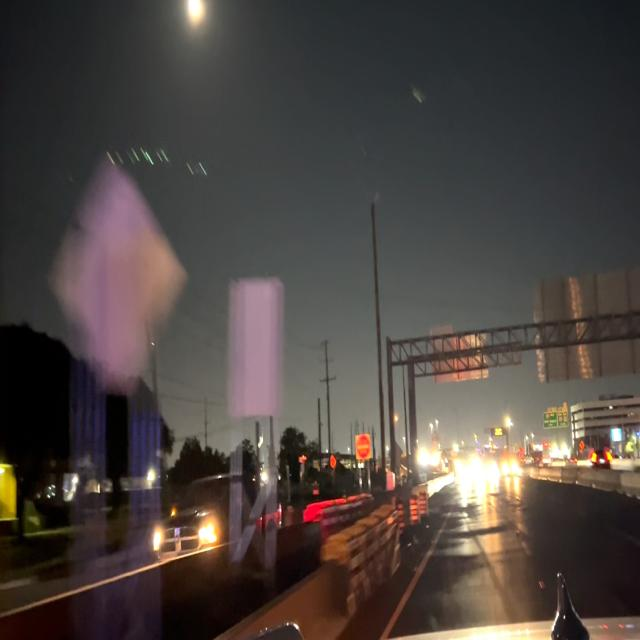back-of-sign: (55, 174, 183, 385), (535, 267, 640, 384), (230, 277, 281, 418), (432, 325, 489, 387)
